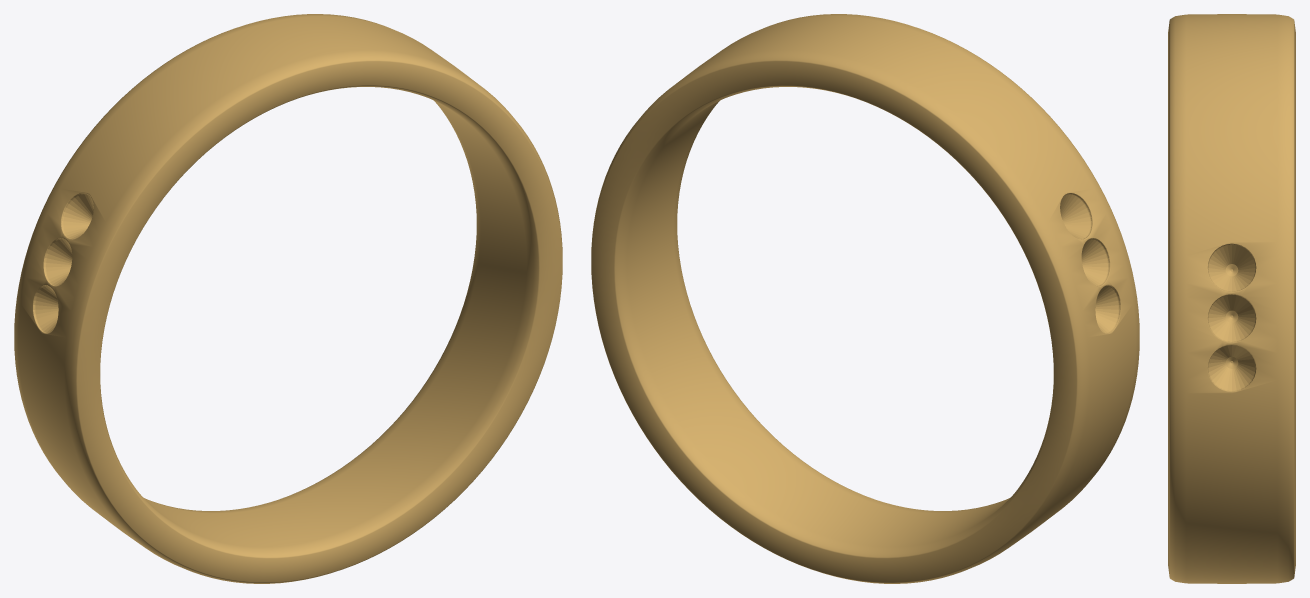
The model's file is wide-bezel-accents-wide.glb.
3 renders of one model, left to right at view 1: azimuth 30°, elevation 25°; view 2: azimuth 150°, elevation 25°; view 3: azimuth 270°, elevation 25°, orthographic.
Visible parts, largest first — view 1: Band; view 2: Band; view 3: Band.
Part boxes in pixels (x1,y1,x2,y2): Band: [14, 14, 562, 583]; Band: [591, 14, 1139, 583]; Band: [1168, 14, 1295, 583].
Size of the model in its own units: 19.6 by 19.6 by 4.4.
